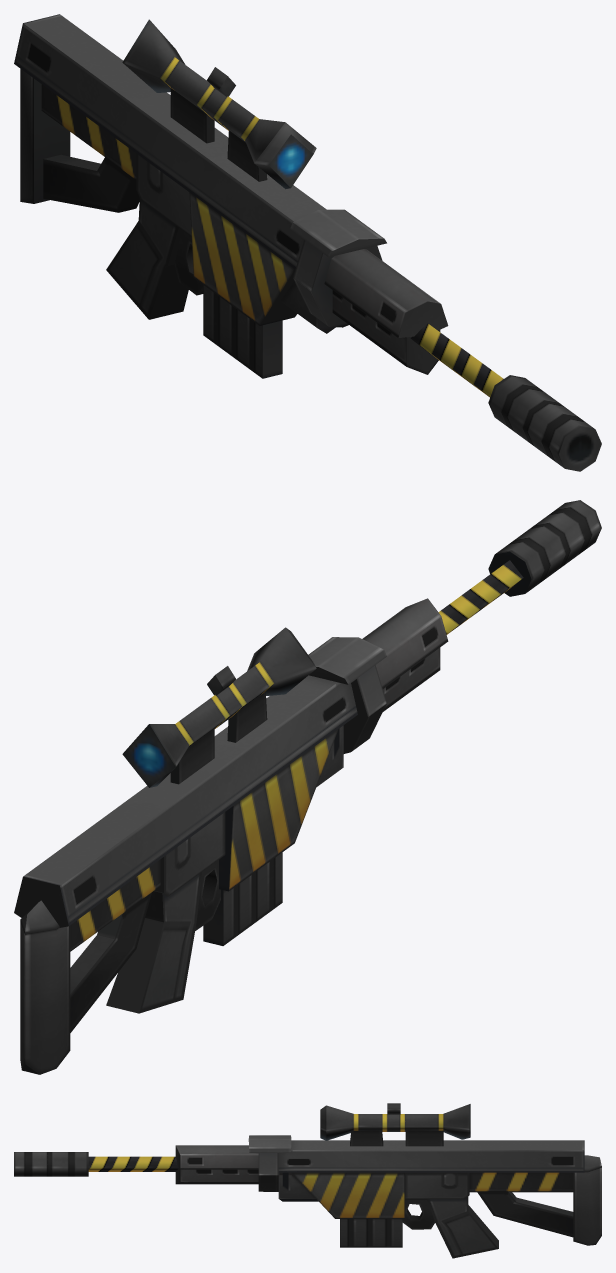
File: Ty_buff_gun02_m.FBX
The picture shows the model from 3 angles, top to bottom: view 1: azimuth 30°, elevation 25°; view 2: azimuth 150°, elevation 25°; view 3: azimuth 270°, elevation 25°; orthographic projection. The views are drawn at different scales.
Visible parts, largest first — view 1: Ty_buff_gun02_m; view 2: Ty_buff_gun02_m; view 3: Ty_buff_gun02_m.
Boxes of the visible parts, x1,y1,x2,y2 form: Ty_buff_gun02_m: [14, 14, 601, 471]; Ty_buff_gun02_m: [14, 500, 601, 1074]; Ty_buff_gun02_m: [14, 1103, 601, 1258].
Bounding box in the file's own units: 4.82 × 17.46 × 61.68.
